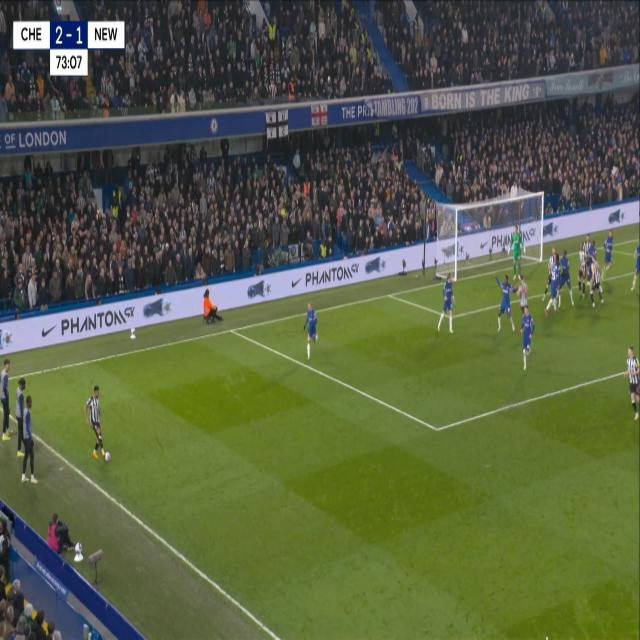Ball: (104, 450, 111, 463)
Chelsea: (493, 268, 520, 336), (435, 268, 458, 338), (517, 300, 537, 374), (301, 296, 321, 364)
New castle: (82, 381, 112, 469), (616, 343, 640, 423)
New castle keeper: (506, 224, 524, 282)
